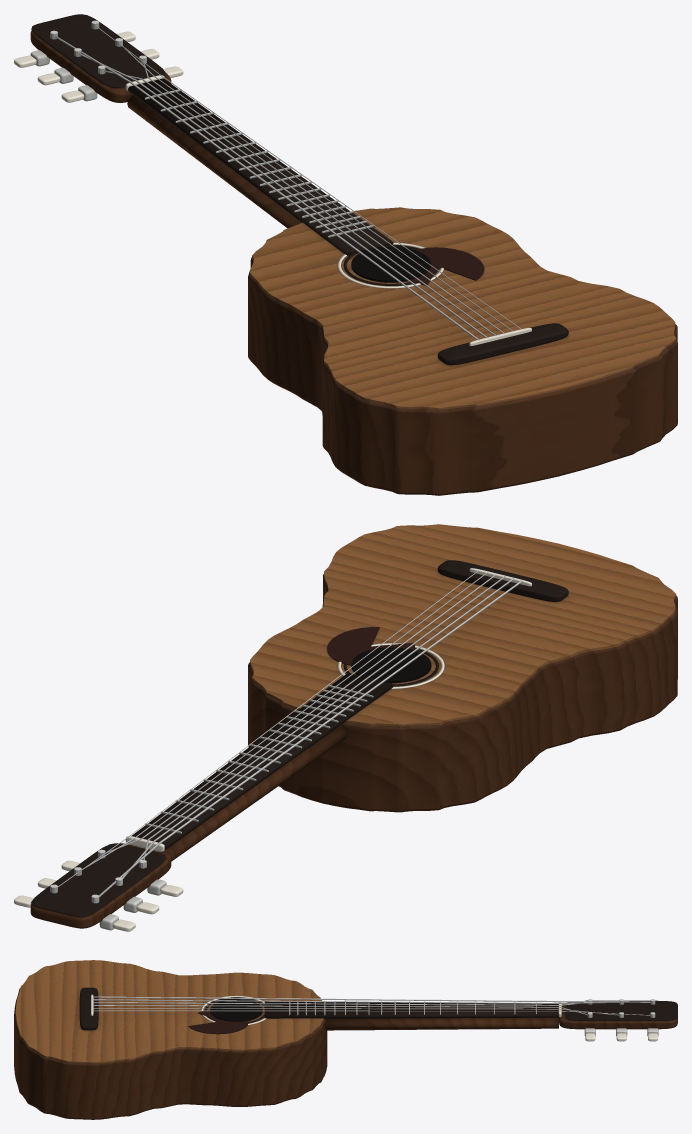
The model's file is dark-mahogany.glb.
3 views of the same model, one above another, from view 1: azimuth 30°, elevation 25°; view 2: azimuth 150°, elevation 25°; view 3: azimuth 270°, elevation 25° (orthographic). The views are drawn at different scales.
Visible parts, largest first — view 1: spruce_top, rosewood, ebony_board, string_steel, fret_nickel, hole_dark, bone_nut, pickguard; view 2: spruce_top, rosewood, ebony_board, string_steel, fret_nickel, bone_nut, hole_dark, pickguard; view 3: rosewood, spruce_top, ebony_board, string_steel, hole_dark, fret_nickel, pickguard, bone_nut.
Boxes of the visible parts, x1,y1,x2,y2 form: spruce_top: (250, 207, 676, 409); rosewood: (30, 30, 677, 495); ebony_board: (31, 14, 568, 365); string_steel: (55, 26, 521, 340); fret_nickel: (30, 20, 373, 237); hole_dark: (351, 247, 431, 282); bone_nut: (14, 31, 531, 345); pickguard: (410, 247, 484, 285); spruce_top: (250, 524, 676, 727); rosewood: (30, 574, 677, 928); ebony_board: (31, 560, 568, 917); string_steel: (58, 570, 522, 897); fret_nickel: (30, 685, 373, 930); bone_nut: (14, 568, 531, 931); hole_dark: (351, 647, 431, 683); pickguard: (327, 627, 414, 665); rosewood: (14, 988, 677, 1119); spruce_top: (15, 960, 323, 1063); ebony_board: (79, 987, 677, 1030); string_steel: (92, 996, 650, 1015); hole_dark: (210, 999, 262, 1021); fret_nickel: (289, 999, 658, 1036); pickguard: (188, 1010, 248, 1034); bone_nut: (91, 994, 657, 1041).
Bounding box in the file's own units: 0.3898 × 0.1156 × 1.06.
Materials: 8 (4 with a texture image).
